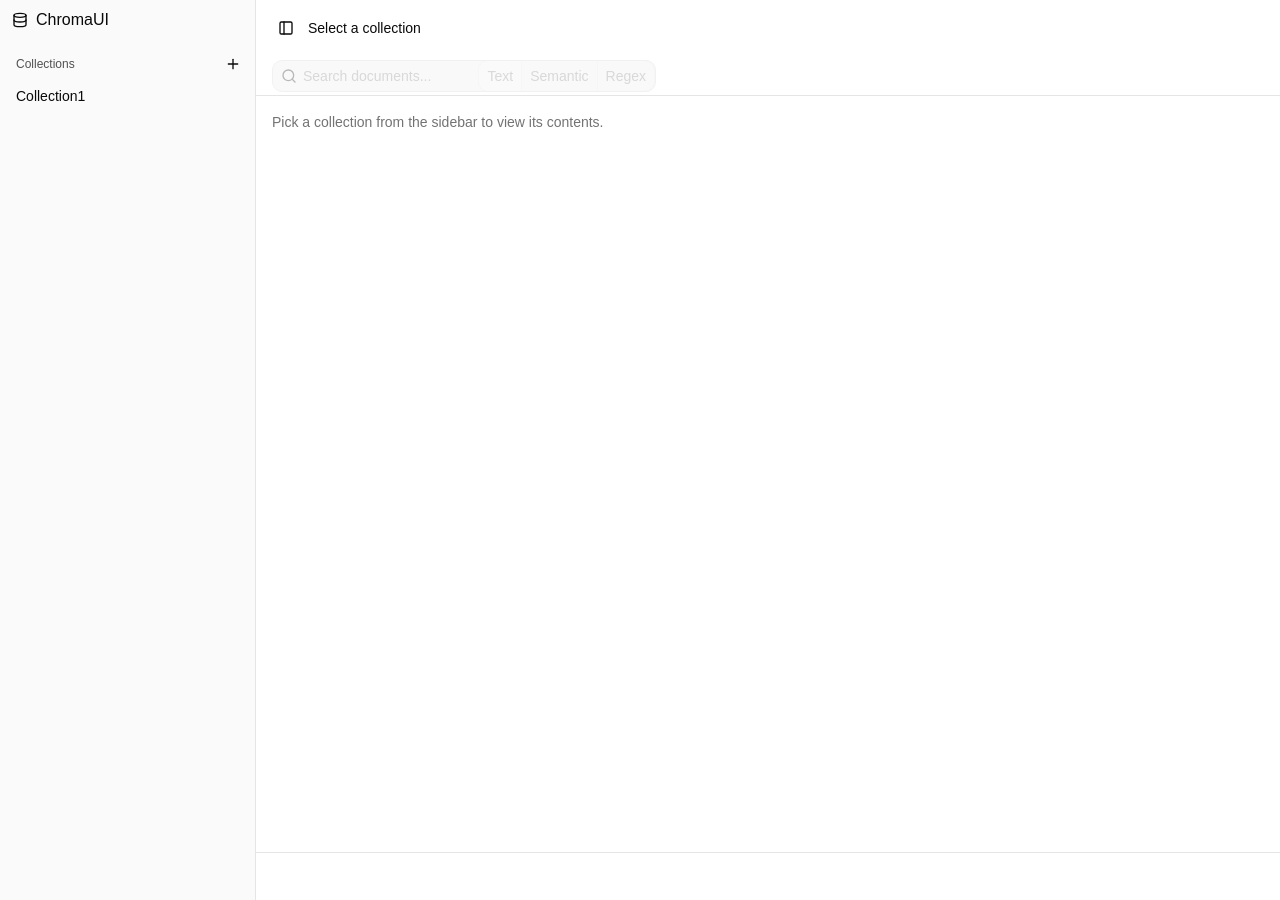
Test: Items End to End › deletes an item and renders it successfully
This screenshot has width=1280, height=900.
Click the button "Collection1". click: (128,96)
box: top-left (8, 80), bottom-right (247, 112)
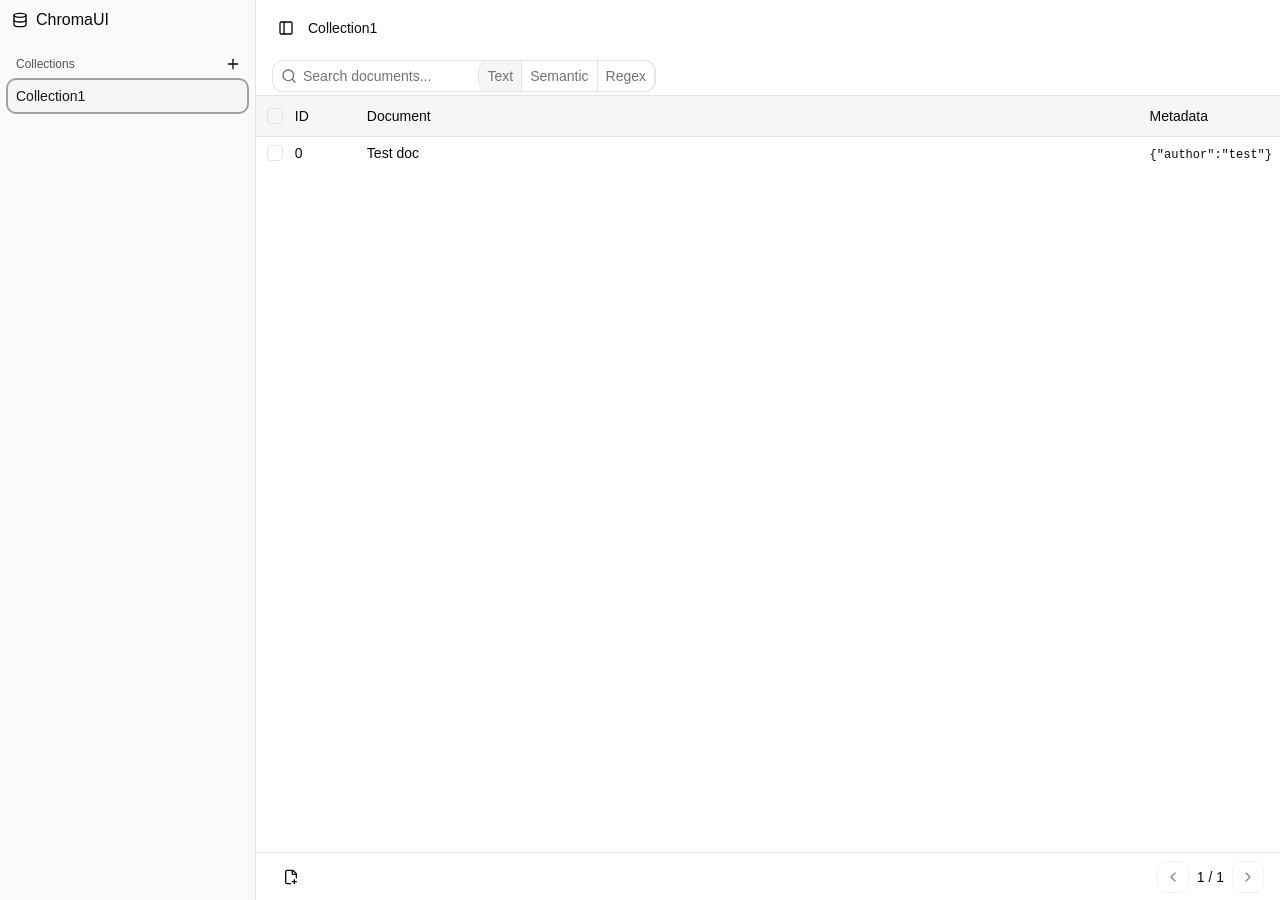
Click the checkbox named "Select row". click: (275,152)
box: top-left (267, 144), bottom-right (283, 160)
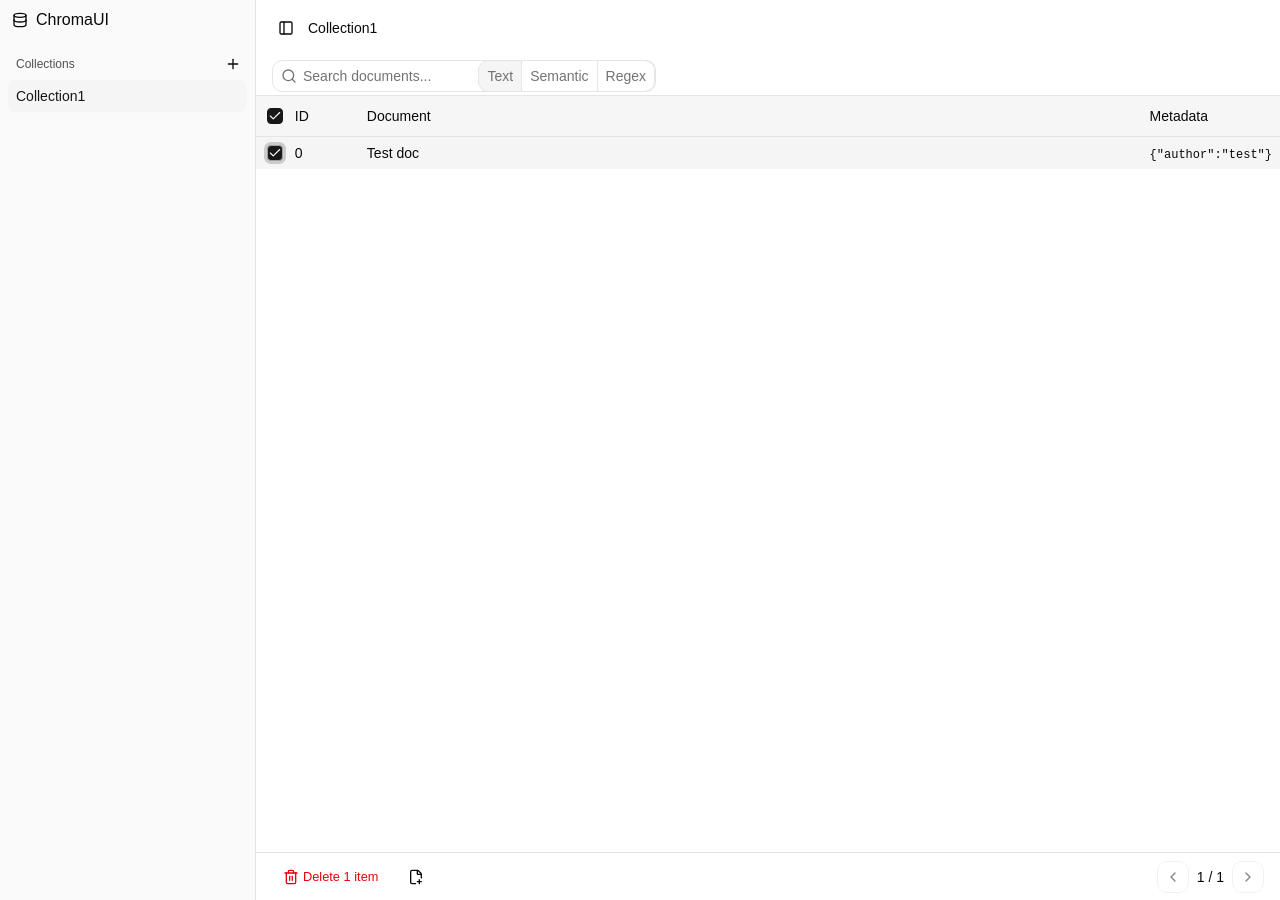
Click the button "Delete 1 item". click: (331,876)
box: top-left (272, 862), bottom-right (389, 890)
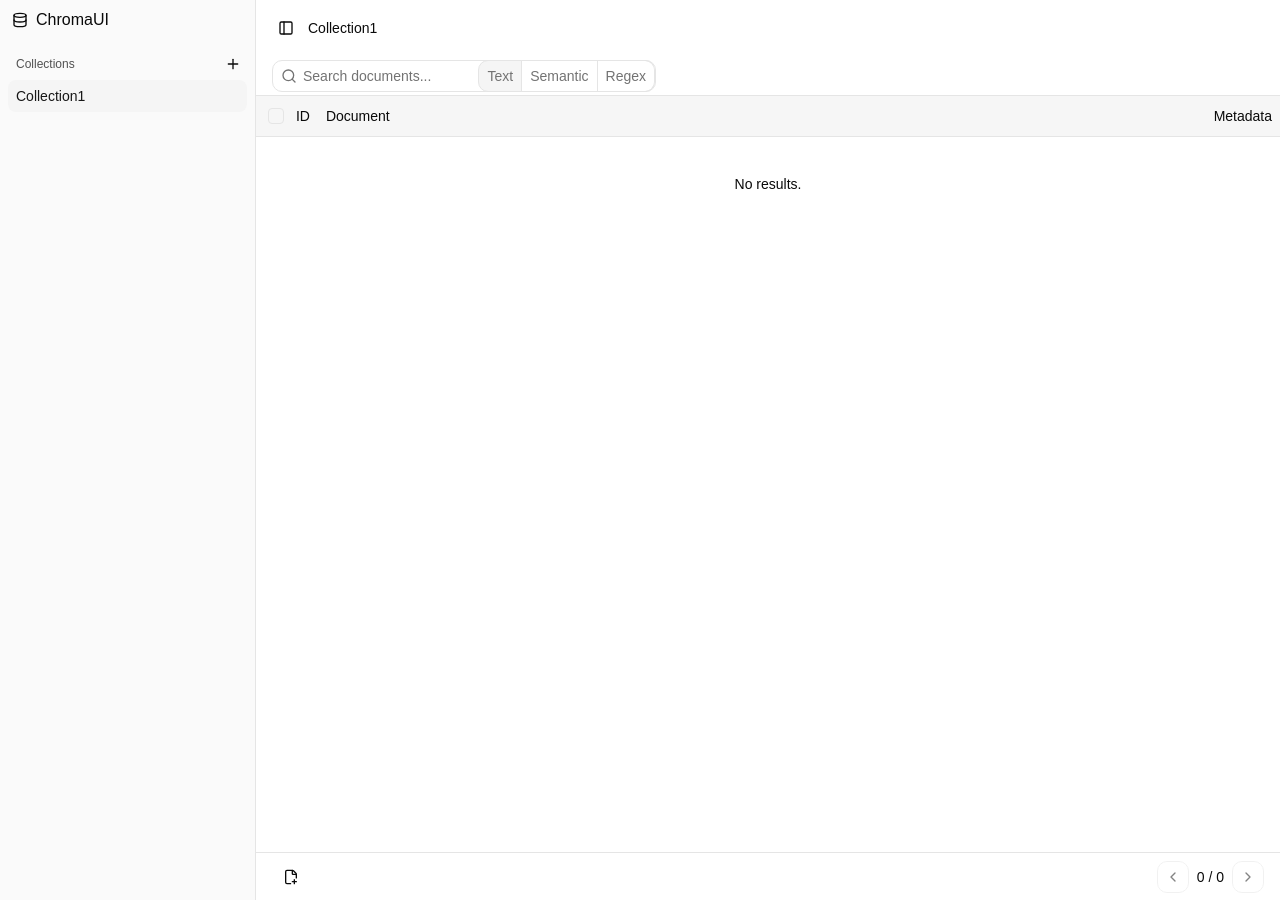
Result: the text "Test doc" is gone
Result: the text "No results." is shown at top-left (256, 136), bottom-right (1279, 232)
